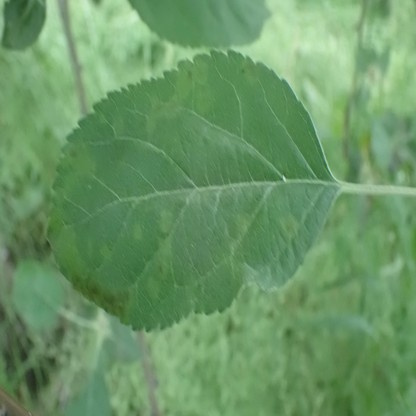scab: (147, 62, 208, 137), (72, 274, 134, 320), (60, 150, 98, 199), (51, 212, 80, 273), (154, 237, 171, 277), (282, 213, 300, 237), (243, 59, 261, 83), (234, 211, 251, 235), (159, 208, 173, 236), (197, 89, 213, 113), (146, 276, 159, 305), (101, 242, 114, 266), (112, 117, 124, 139), (133, 221, 142, 241), (97, 114, 104, 124)
